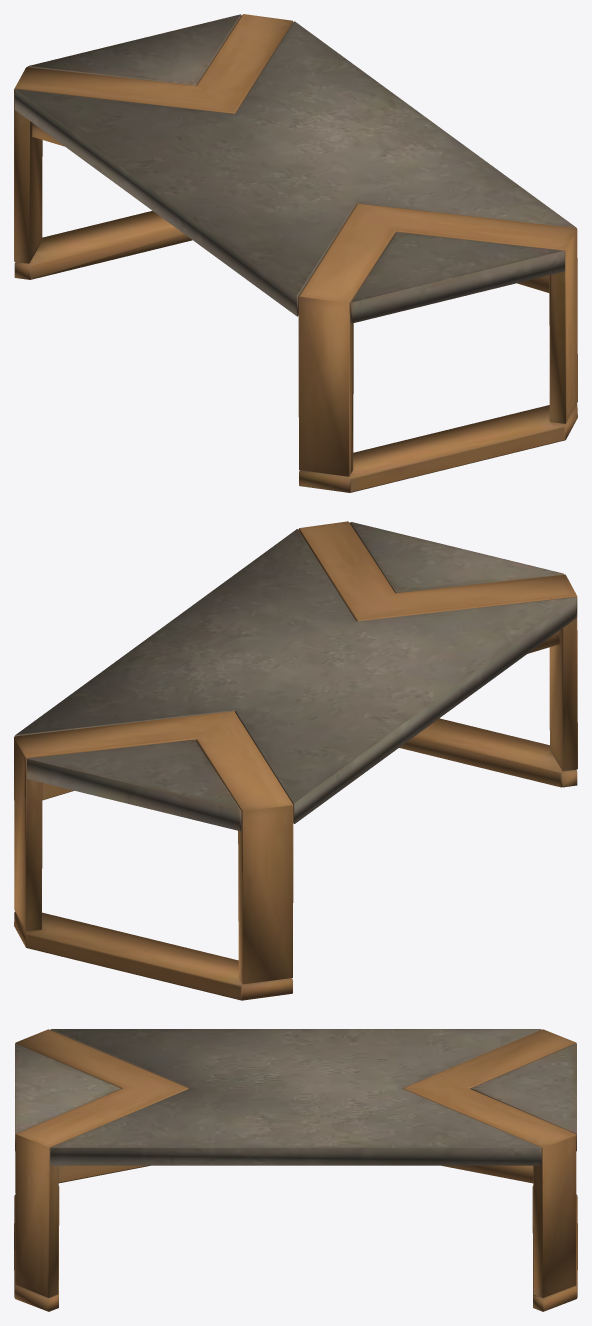
The model's file is coffee-table-modern-opt.glb.
The picture shows the model from 3 angles, top to bottom: view 1: azimuth 30°, elevation 25°; view 2: azimuth 150°, elevation 25°; view 3: azimuth 270°, elevation 25°; orthographic projection. The views are drawn at different scales.
Parts seen in each view (by area): view 1: modern_coffee_table_01; view 2: modern_coffee_table_01; view 3: modern_coffee_table_01.
Part boxes in pixels (<box>): modern_coffee_table_01: <box>14,14,577,492</box>; modern_coffee_table_01: <box>14,521,577,1000</box>; modern_coffee_table_01: <box>14,1029,577,1311</box>.
Size of the model in its own units: 0.5985 by 0.3888 by 1.2.
Materials: 1 (1 with a texture image).
